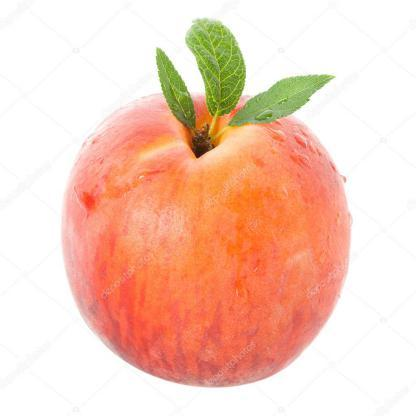Peach leaf: (219, 67, 345, 141), (184, 12, 238, 124), (148, 40, 204, 142)
